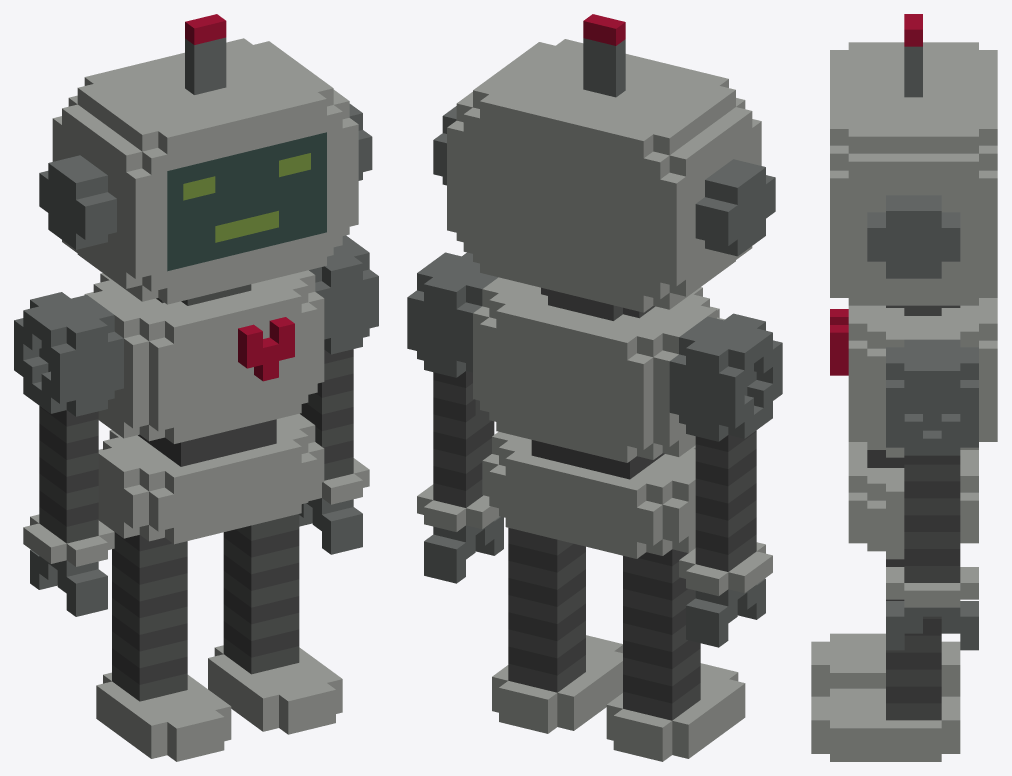
The model's file is player_main.fbx.
3 renders of one model, left to right at view 1: azimuth 30°, elevation 25°; view 2: azimuth 150°, elevation 25°; view 3: azimuth 270°, elevation 25°, orthographic. The views are drawn at different scales.
Visible parts, largest first — view 1: model_0; view 2: model_0; view 3: model_0.
Boxes of the visible parts, box(x1,y1,x2,y2) form: model_0: box(14, 14, 378, 761); model_0: box(407, 14, 782, 761); model_0: box(811, 14, 997, 761).
Size of the model in its own units: 49.01 by 24.51 by 100.
